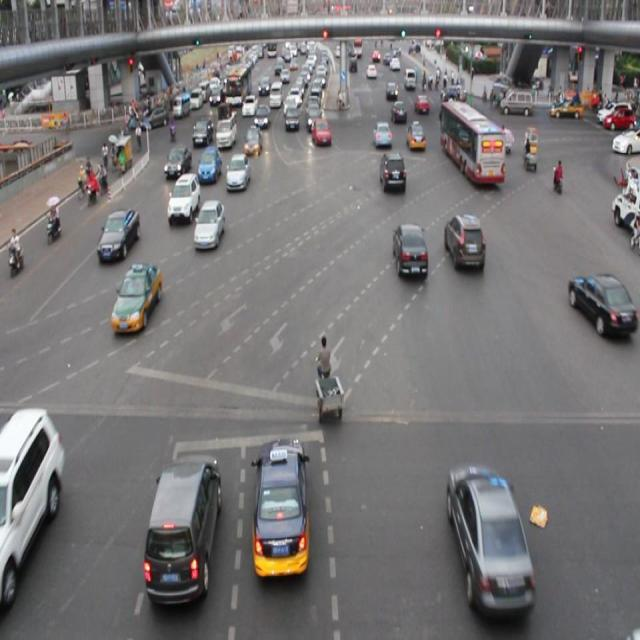BigCar: (441, 97, 506, 195)
car: (443, 454, 537, 622), (141, 450, 225, 600), (2, 405, 64, 601), (255, 442, 314, 580), (564, 266, 639, 350), (109, 265, 165, 335), (444, 215, 486, 274), (388, 223, 430, 278), (95, 209, 141, 257), (194, 200, 225, 250), (169, 174, 196, 224), (382, 154, 412, 196), (225, 152, 249, 198), (547, 95, 585, 124), (307, 115, 336, 150), (604, 104, 636, 130), (218, 110, 237, 153), (164, 144, 188, 177), (616, 126, 640, 158), (404, 116, 426, 148), (200, 149, 219, 185), (375, 114, 393, 149), (246, 120, 264, 151), (193, 118, 212, 145), (254, 102, 272, 127), (240, 94, 257, 117), (285, 108, 298, 134), (414, 91, 428, 114), (387, 78, 398, 100)
